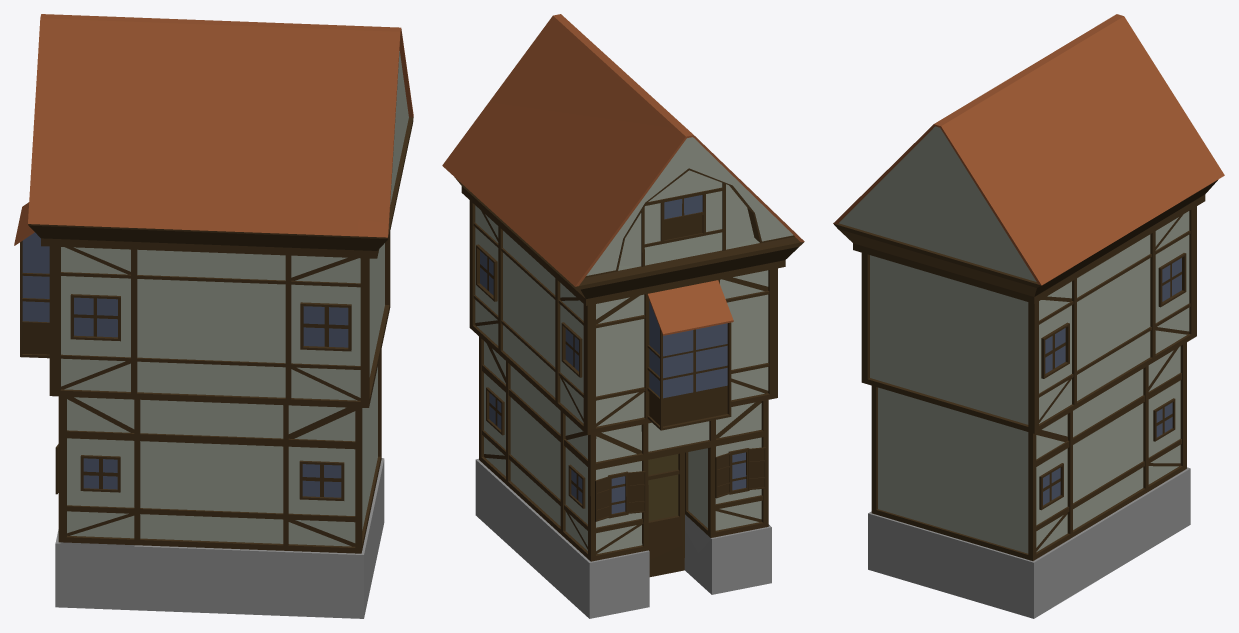
3 views of the same model, side by side, from view 1: azimuth 30°, elevation 25°; view 2: azimuth 150°, elevation 25°; view 3: azimuth 270°, elevation 25° (orthographic). The views are drawn at different scales.
Parts seen in each view (by area): view 1: House010; view 2: House010; view 3: House010.
Boxes of the visible parts, bbox=[...] form: House010: bbox=[14, 14, 413, 618]; House010: bbox=[442, 14, 804, 618]; House010: bbox=[833, 14, 1224, 618].
Size of the model in its own units: 778 by 749 by 1006.
1 material, 1 textured.
